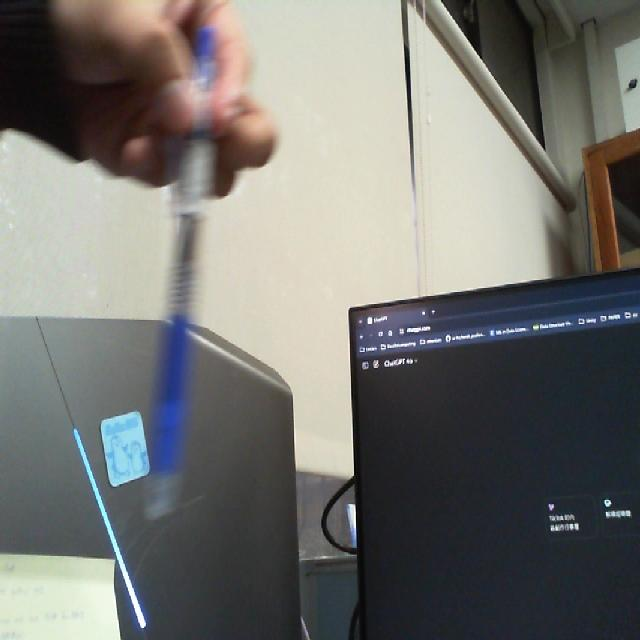Pen: (142, 18, 232, 523)
